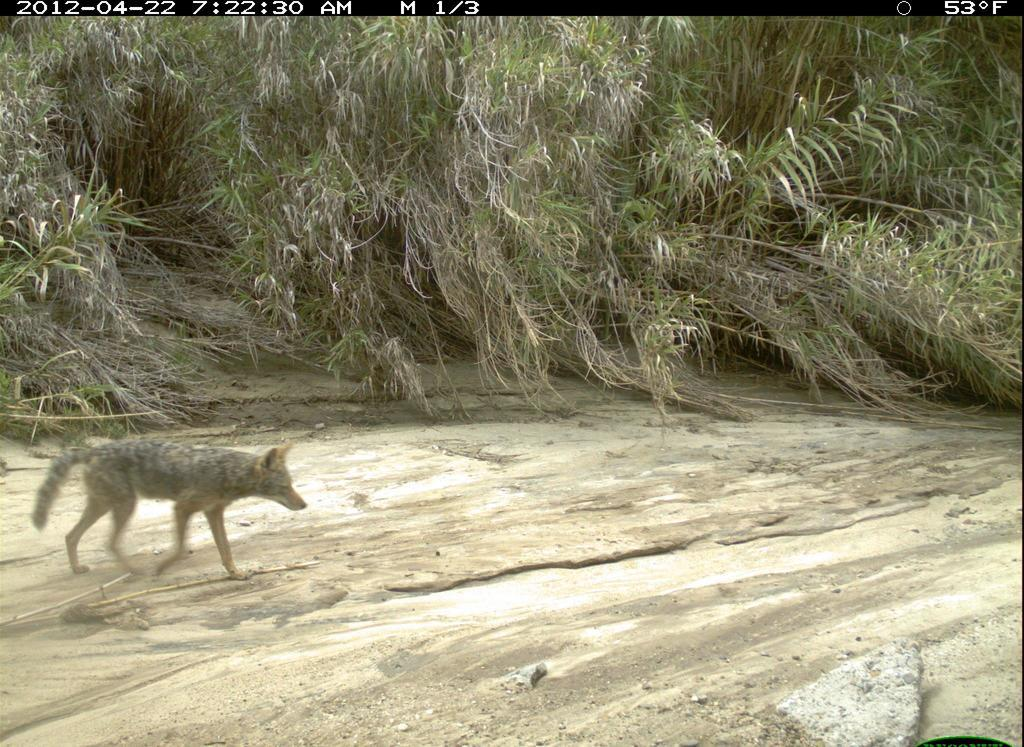coyote: (26, 440, 324, 589)
